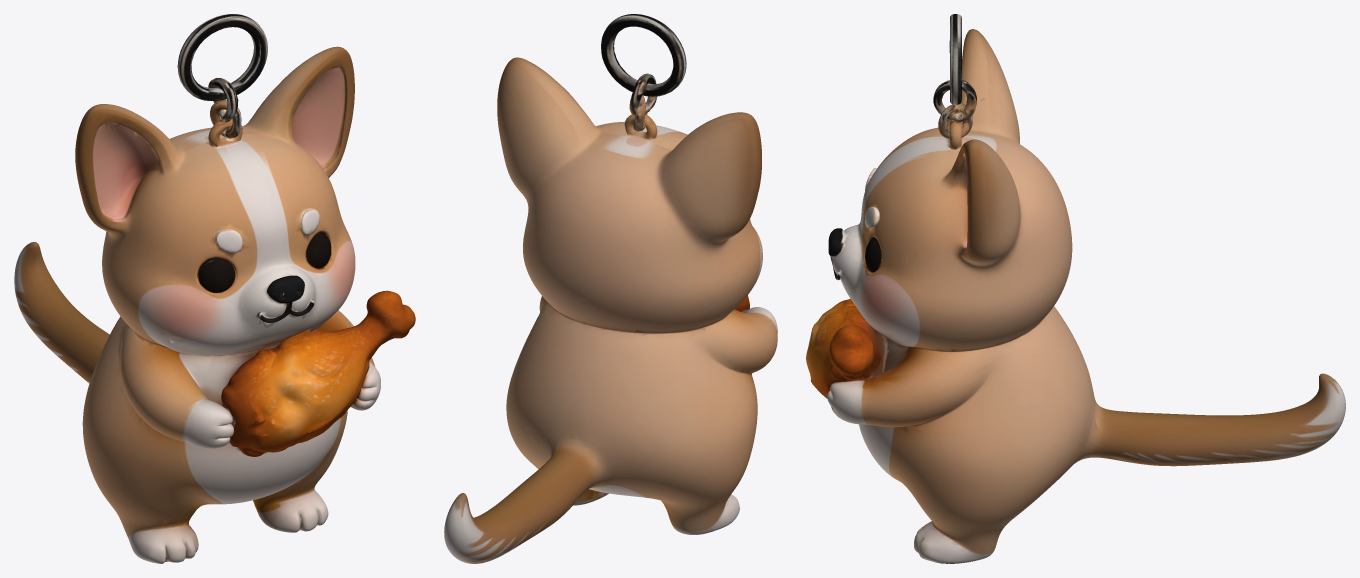
Rendered from dog-keychain_chicken.glb.
3 views of the same model, side by side, from view 1: azimuth 30°, elevation 25°; view 2: azimuth 150°, elevation 25°; view 3: azimuth 270°, elevation 25° (orthographic). The views are drawn at different scales.
Visible parts, largest first — view 1: node_0; view 2: node_0; view 3: node_0.
Part boxes in pixels (x1,y1,x2,y2): node_0: (14, 14, 415, 563); node_0: (444, 14, 777, 563); node_0: (806, 14, 1345, 563).
Bounding box in the file's own units: 0.5652 × 1.02 × 0.9903.
1 material, 1 textured.
